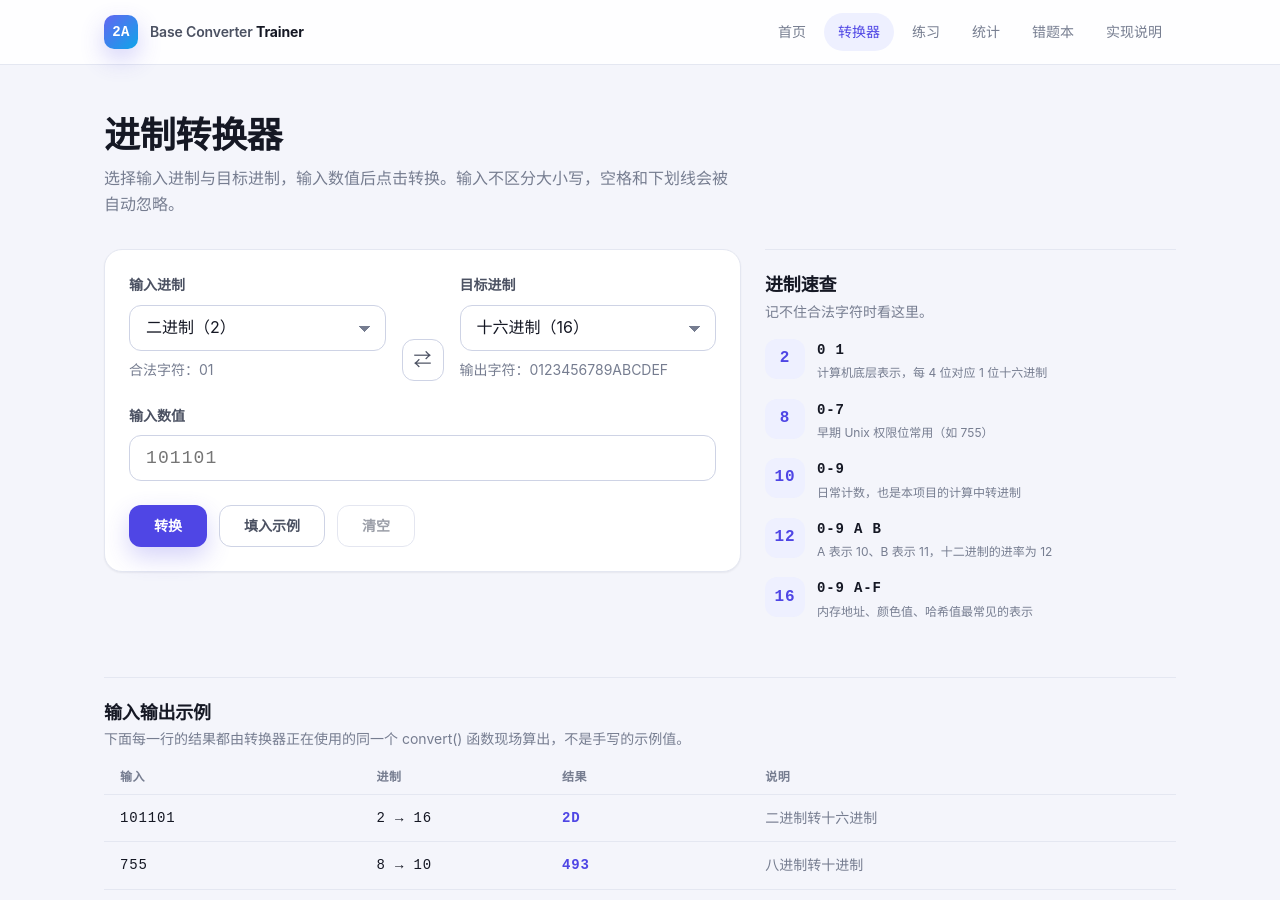
转换页 · 错误处理 › 输入了不属于源进制的字符时给出明确提示
Type "102" into the field labelled "输入数值" at (422, 458), box [129,435,716,481]
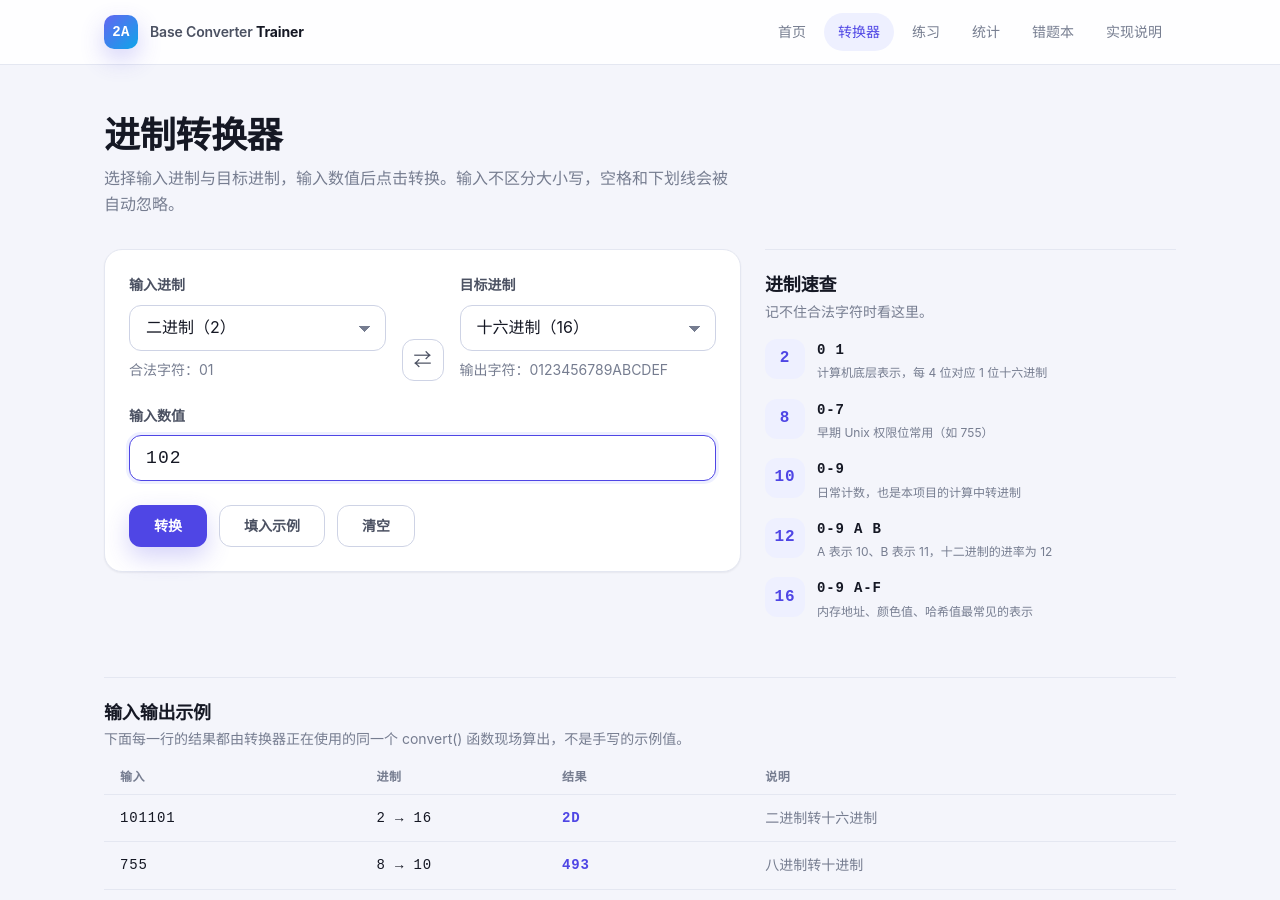
Click the button "转换" at (168, 526), box [129,505,207,547]
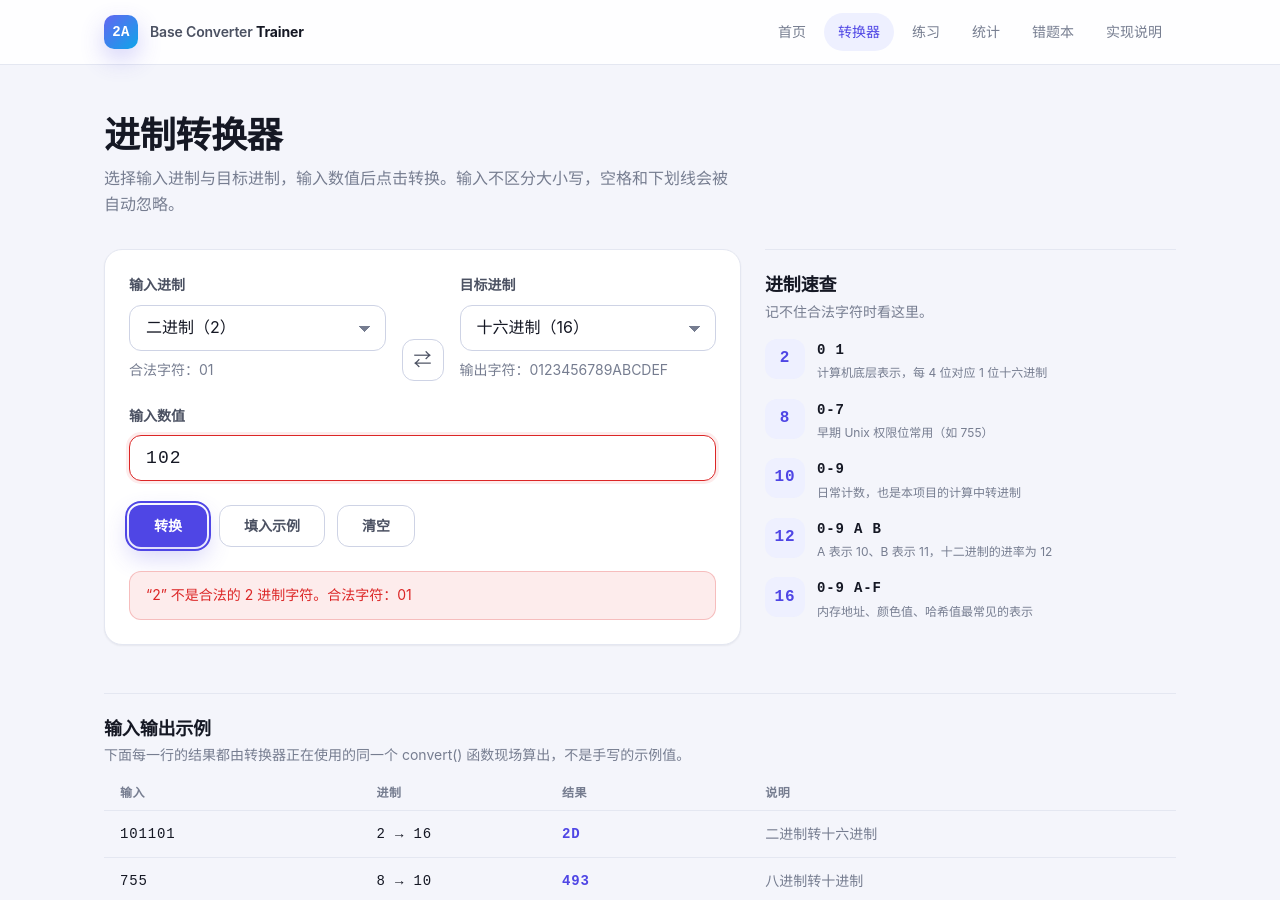
expect the message shows "2": met, box [146,586,412,603]
expect the message shows "不是合法的 2 进制字符": met, box [146,586,412,603]
